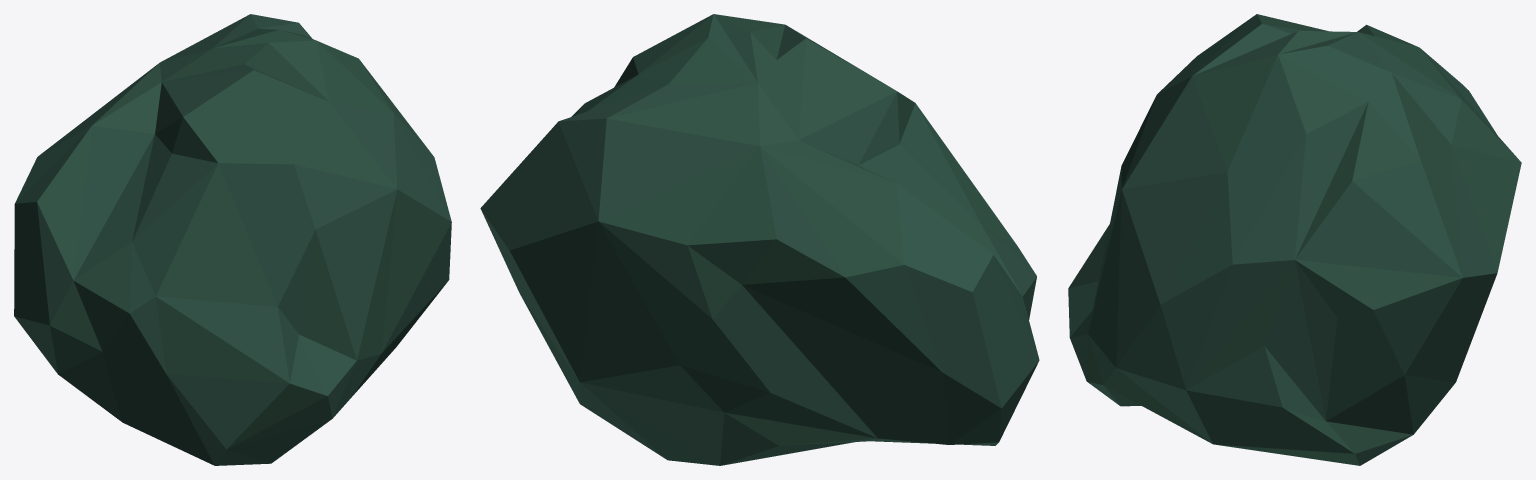
The model's file is SM_large_rock_25.fbx.
3 views of the same model, side by side, from view 1: azimuth 30°, elevation 25°; view 2: azimuth 150°, elevation 25°; view 3: azimuth 270°, elevation 25° (orthographic). The views are drawn at different scales.
Visible parts, largest first — view 1: large_rock_25; view 2: large_rock_25; view 3: large_rock_25.
Boxes of the visible parts, x1,y1,x2,y2 form: large_rock_25: (14, 14, 451, 465); large_rock_25: (480, 14, 1039, 465); large_rock_25: (1068, 14, 1521, 465).
Bounding box in the file's own units: 53.64 × 45.05 × 44.35.
